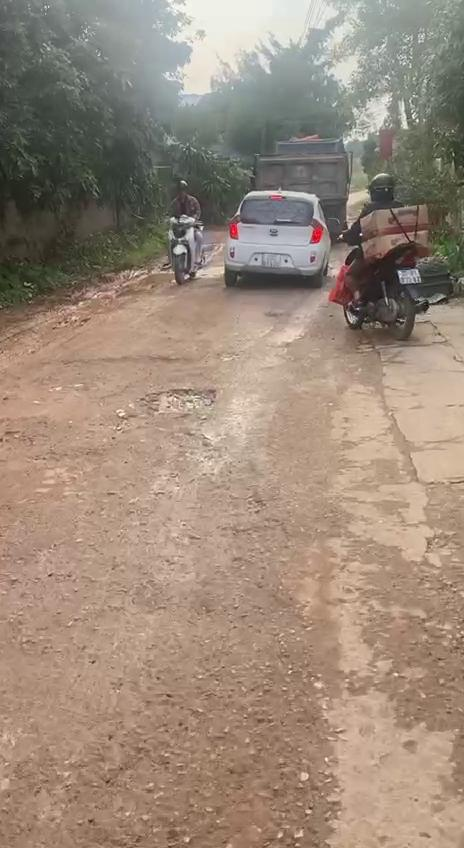pothole: (136, 382, 218, 420)
